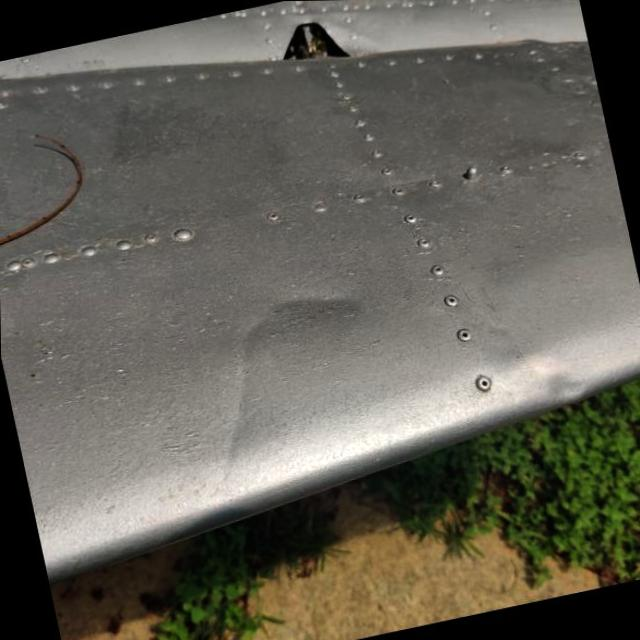dent: (218, 310, 310, 478), (248, 284, 379, 374), (524, 355, 612, 418)
